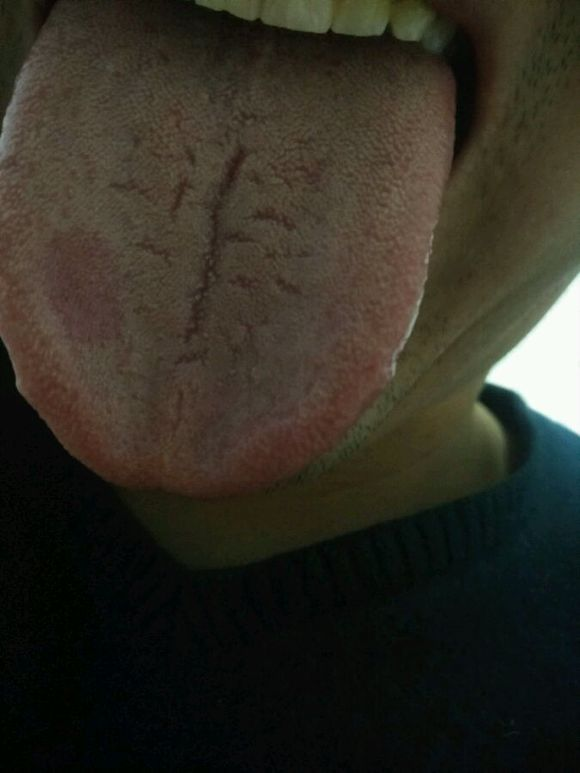baitaishe: (1, 1, 455, 500)
liewenshe: (162, 120, 309, 371)
